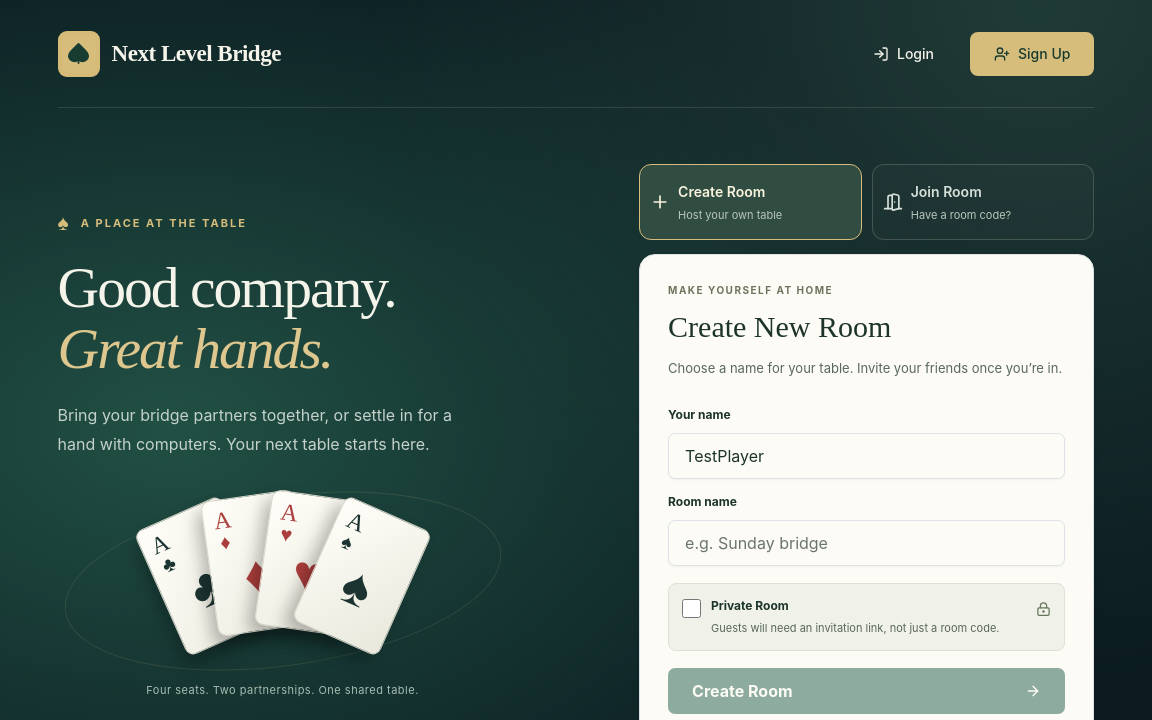
it: RoomManager › Create Room Form › disables create button when form is incomplete
Expected: the button with test id "create-room-button" is disabled, x1=668 y1=668 x2=1065 y2=714
Fill in only player name
Replace the text in the field with test id "create-player-name-input" with "Player" at (867,456), box x1=668 y1=433 x2=1065 y2=479
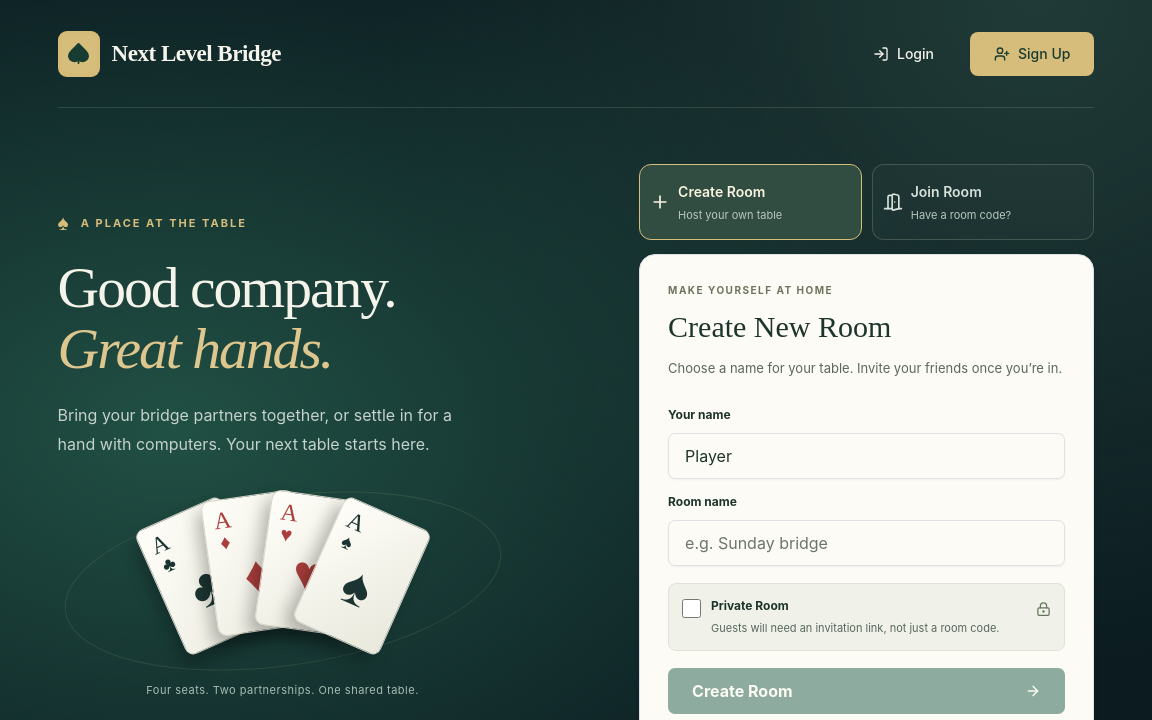
Expected: the button with test id "create-room-button" is disabled, x1=668 y1=668 x2=1065 y2=714
Fill in room name
Type "Room" into the field with test id "create-room-name-input" at (867,543), box x1=668 y1=520 x2=1065 y2=566
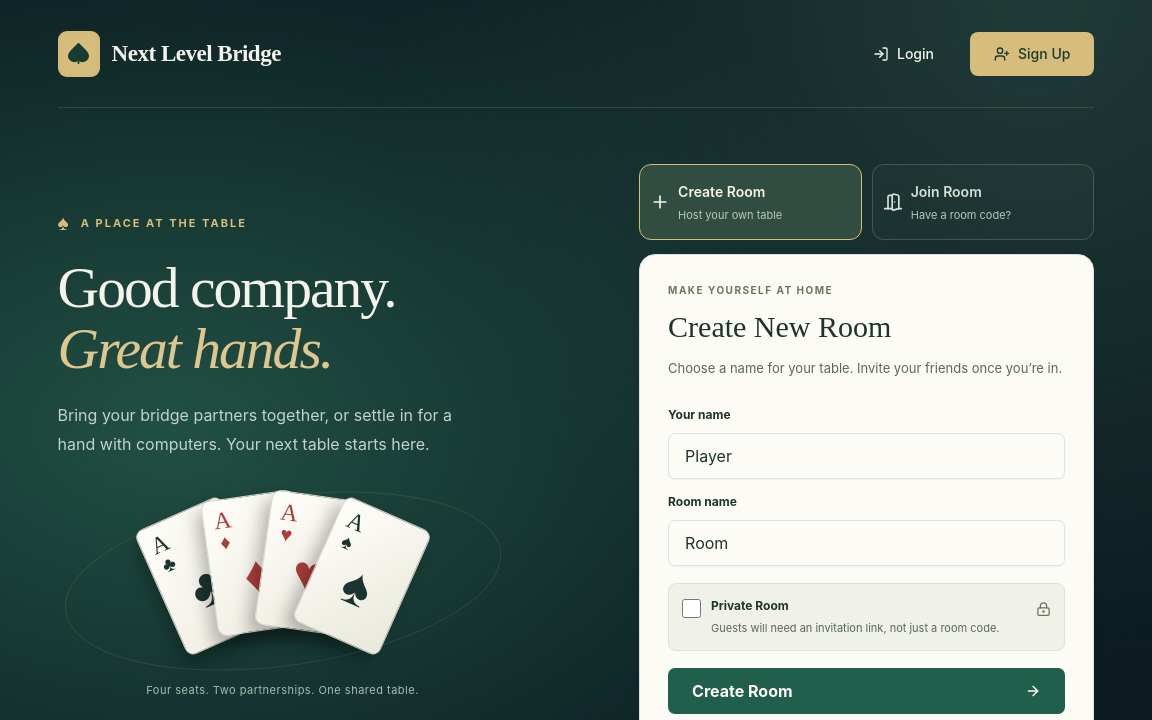
Result: the button with test id "create-room-button" is enabled at x1=668 y1=668 x2=1065 y2=714
